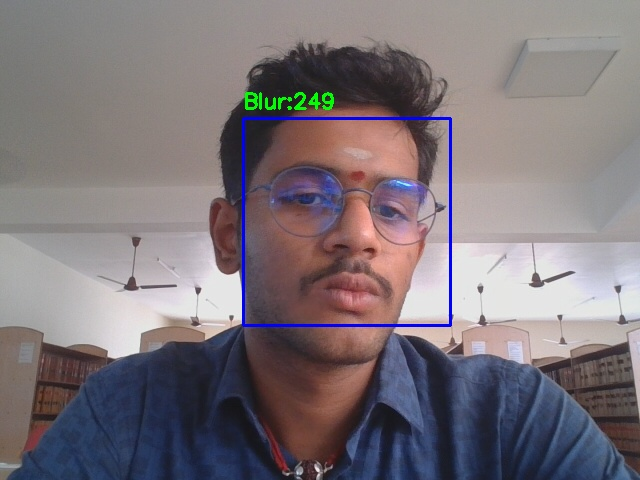real: (243, 118, 450, 325)
